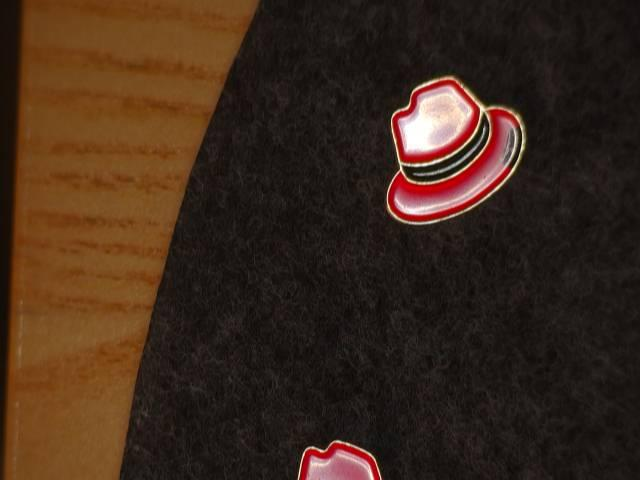Red-Hat: (368, 60, 551, 258), (287, 432, 401, 480)
Scratch: (498, 113, 547, 190)
